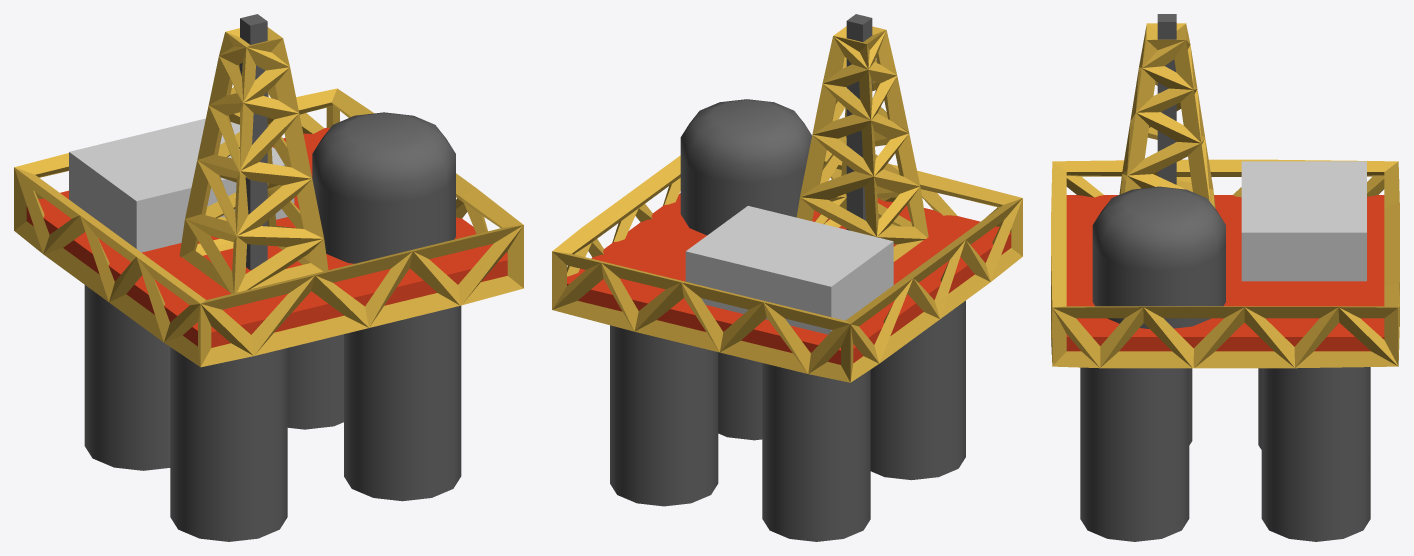
Rendered from oil_rig.fbx.
3 renders of one model, left to right at view 1: azimuth 30°, elevation 25°; view 2: azimuth 150°, elevation 25°; view 3: azimuth 270°, elevation 25°, orthographic. The views are drawn at different scales.
Parts seen in each view (by area): view 1: Cube, Cube.001; view 2: Cube, Cube.001; view 3: Cube, Cube.001.
Part boxes in pixels (box(x1,y1,x2,y2)): Cube: box(26, 14, 507, 541); Cube.001: box(14, 27, 523, 367); Cube: box(567, 14, 1011, 541); Cube.001: box(552, 26, 1022, 382); Cube: box(1066, 14, 1384, 541); Cube.001: box(1051, 23, 1399, 368).
Bounding box in the file's own units: 384 × 537 × 384.
